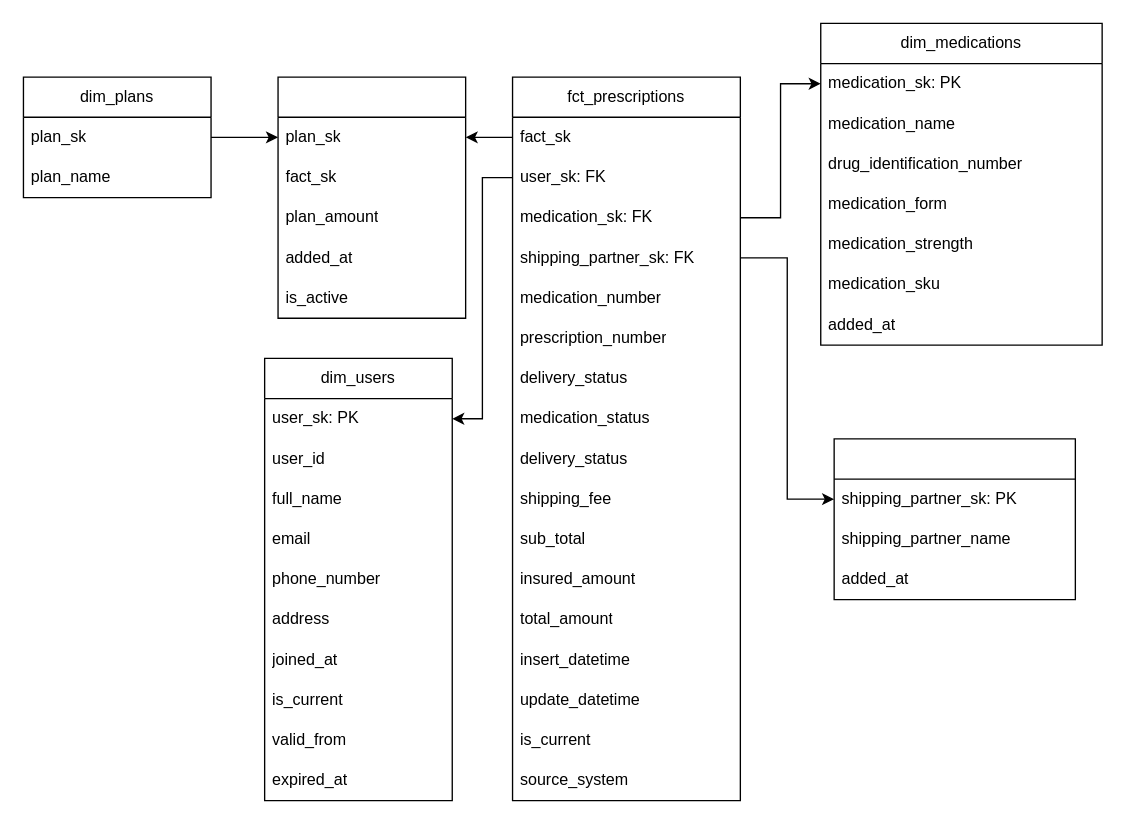
The diagram is 1126 pixels wide and 824 high, and some of its shapes have lost their labels. Each missing label, with the box of its shape:
dim_plans_medications: (277, 76, 466, 318)
dim_shipping_partners: (833, 438, 1075, 600)
